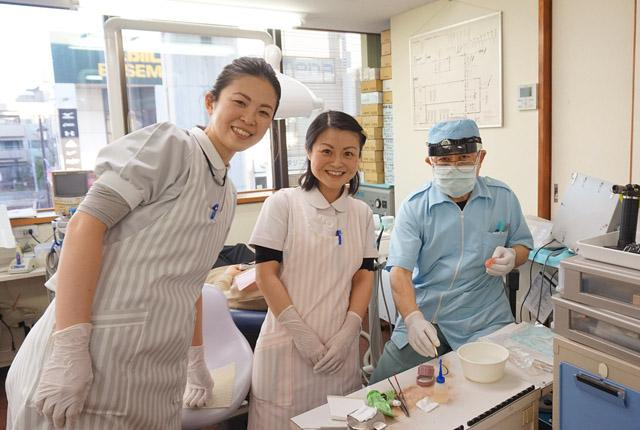mask: (431, 165, 477, 197)
